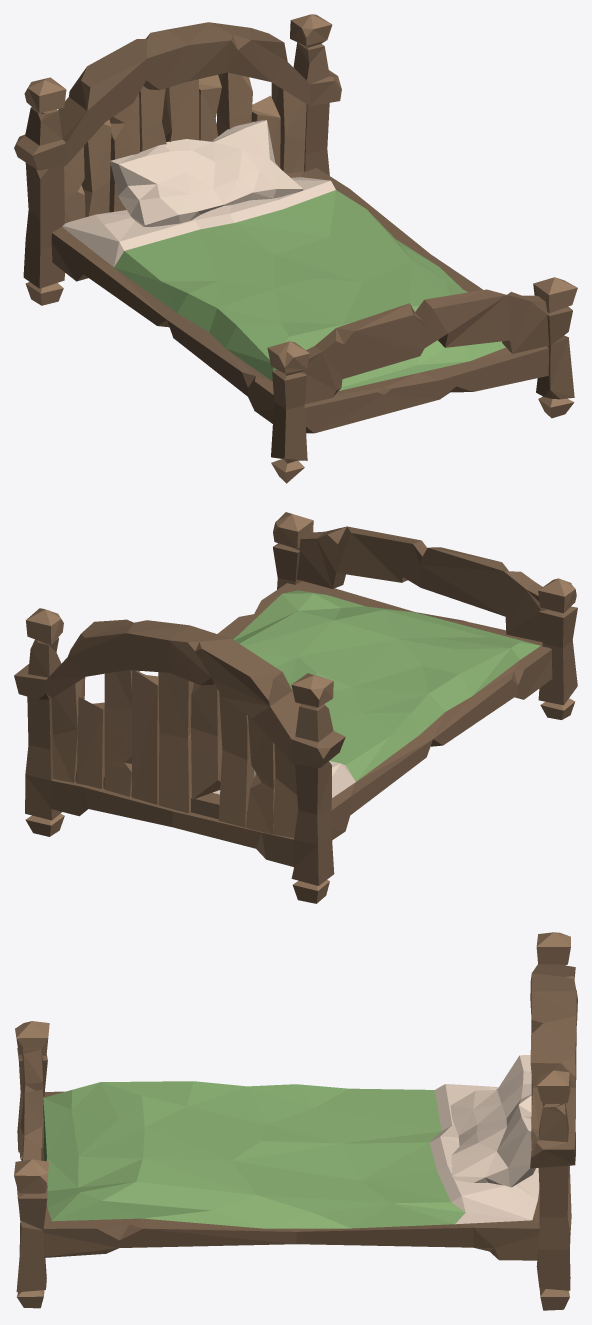
The model's file is CaptainBed_Green.fbx.
The picture shows the model from 3 angles, top to bottom: view 1: azimuth 30°, elevation 25°; view 2: azimuth 150°, elevation 25°; view 3: azimuth 270°, elevation 25°; orthographic projection. The views are drawn at different scales.
Visible parts, largest first — view 1: CaptainBed_Green; view 2: CaptainBed_Green; view 3: CaptainBed_Green.
Part boxes in pixels (x1,y1,x2,y2): CaptainBed_Green: [14, 14, 577, 483]; CaptainBed_Green: [14, 512, 577, 903]; CaptainBed_Green: [14, 932, 577, 1310].
Size of the model in its own units: 4.1 by 2.94 by 6.03.
